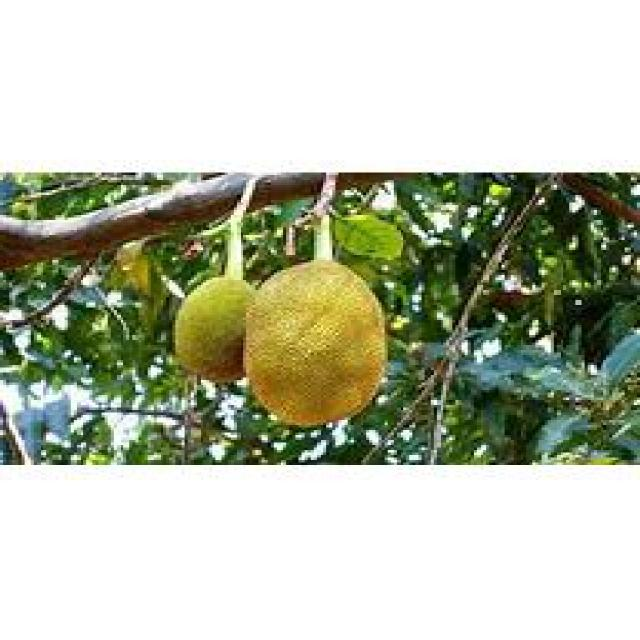Fruit: (234, 245, 400, 437)
